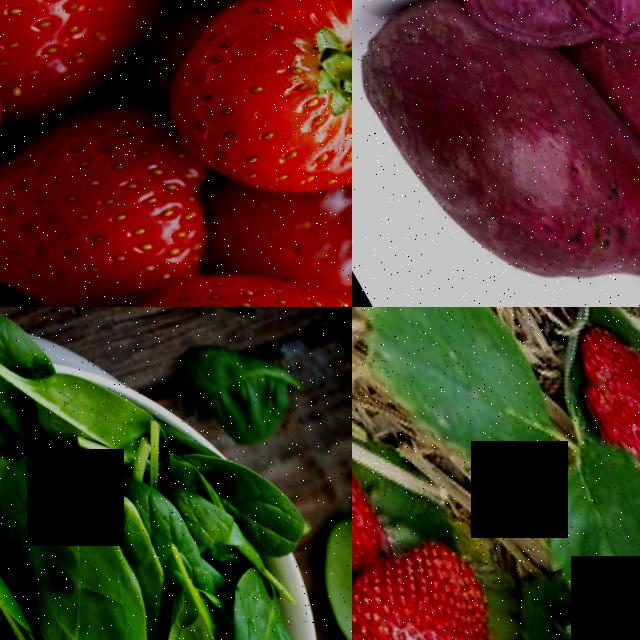spinach: (0, 434, 194, 640), (169, 307, 314, 454), (18, 349, 151, 468), (182, 554, 339, 640), (202, 438, 310, 555), (281, 484, 352, 640), (105, 307, 271, 341)
strawberry: (109, 0, 352, 251), (0, 79, 236, 307), (62, 191, 352, 307), (352, 517, 544, 640), (0, 0, 187, 114), (560, 307, 640, 498), (352, 417, 394, 584)
sweet potato: (352, 0, 623, 307), (571, 0, 640, 251)
